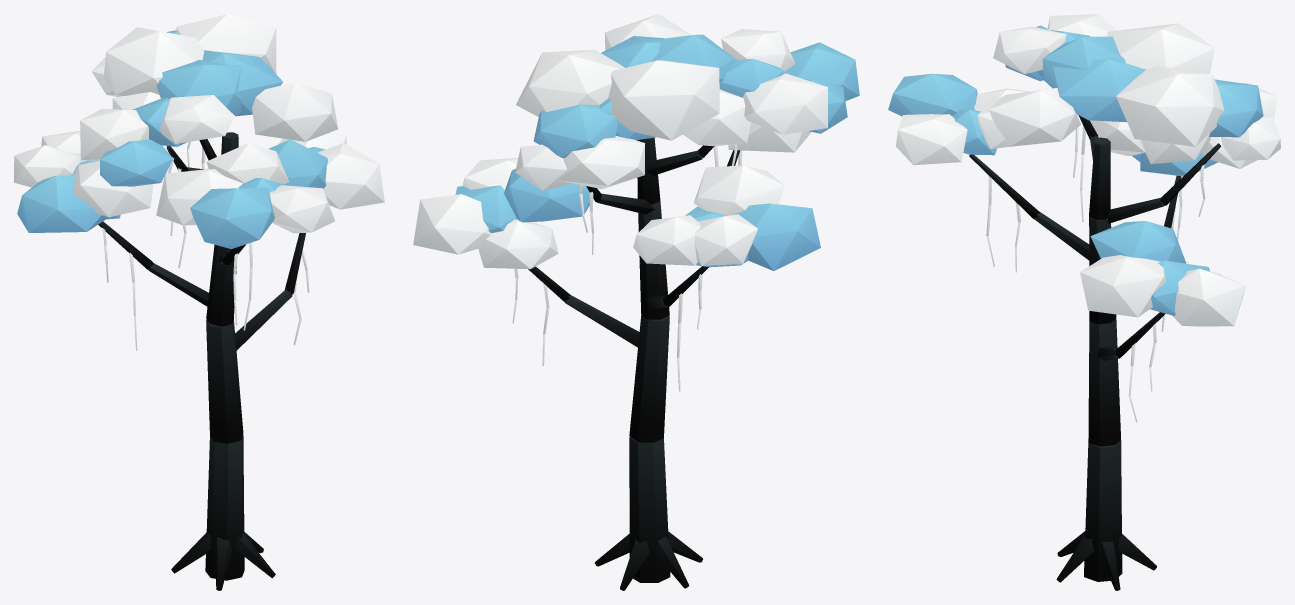
The model's file is black_tree.glb.
3 views of the same model, side by side, from view 1: azimuth 30°, elevation 25°; view 2: azimuth 150°, elevation 25°; view 3: azimuth 270°, elevation 25° (orthographic). The views are drawn at different scales.
Visible parts, largest first — view 1: black_tree; view 2: black_tree; view 3: black_tree.
Boxes of the visible parts, x1,y1,x2,y2 form: black_tree: [14, 14, 384, 590]; black_tree: [413, 14, 859, 590]; black_tree: [888, 14, 1280, 590].
Bounding box in the file's own units: 6.86 × 9.82 × 6.64.
Materials: 3 (3 with a texture image).
